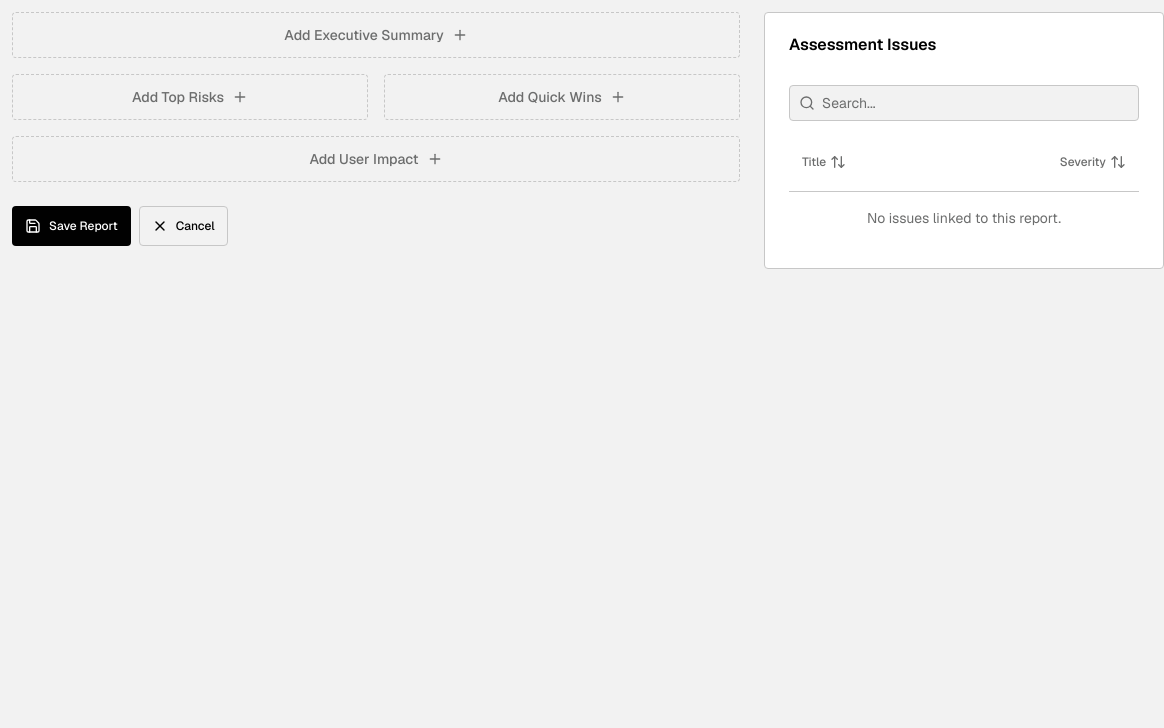
Test: ReportEditForm › adds User Impact section when placeholder is clicked
Step 1. Click the button "Add User Impact" → (376, 159), box [12, 136, 740, 182]
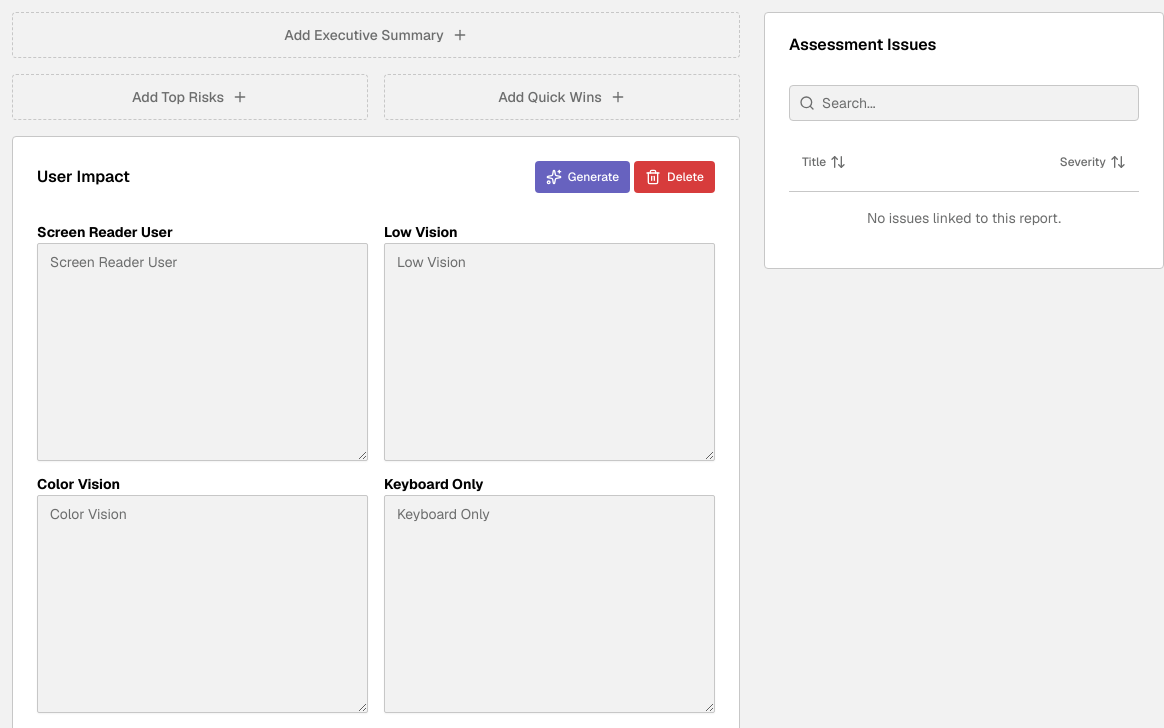
Now the text "Screen Reader User" is shown, box [37, 223, 173, 241]
